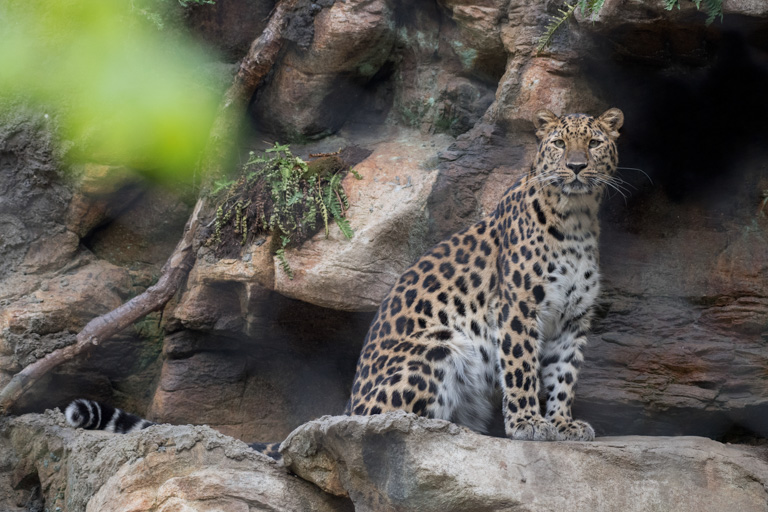amur_leopard: (515, 99, 649, 206)
